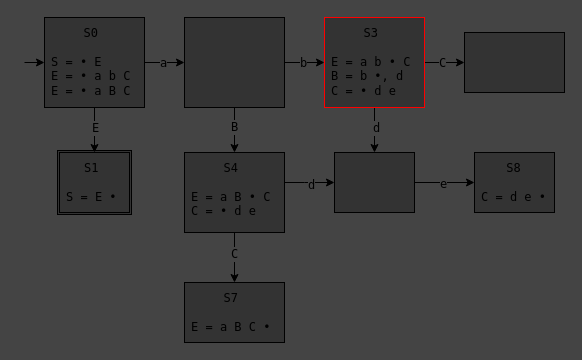
Some shapes in this 582 by 360 pixel diagram are drawn without their labels. Here are the shapes that lost their labels. From the top down, the box of each, then its label:
(184, 16, 284, 108): S2 E = a • b C E = a • B C B = • b
(464, 32, 564, 92): S5 E = a b C •
(334, 152, 414, 212): S6 C = d • e
